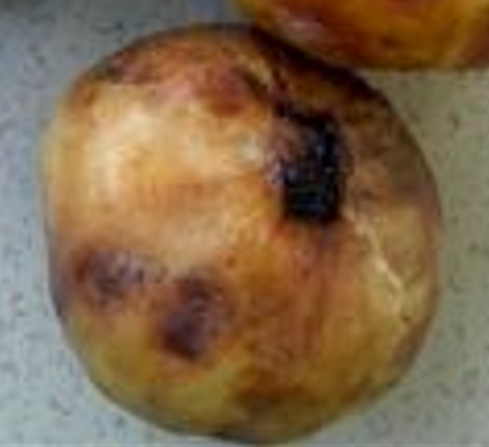guava_C: (40, 24, 447, 444)
